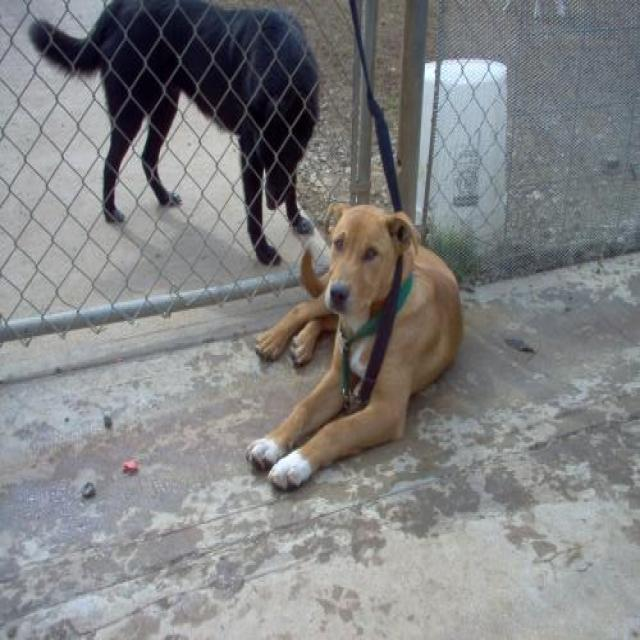dogs: (29, 0, 464, 492)
